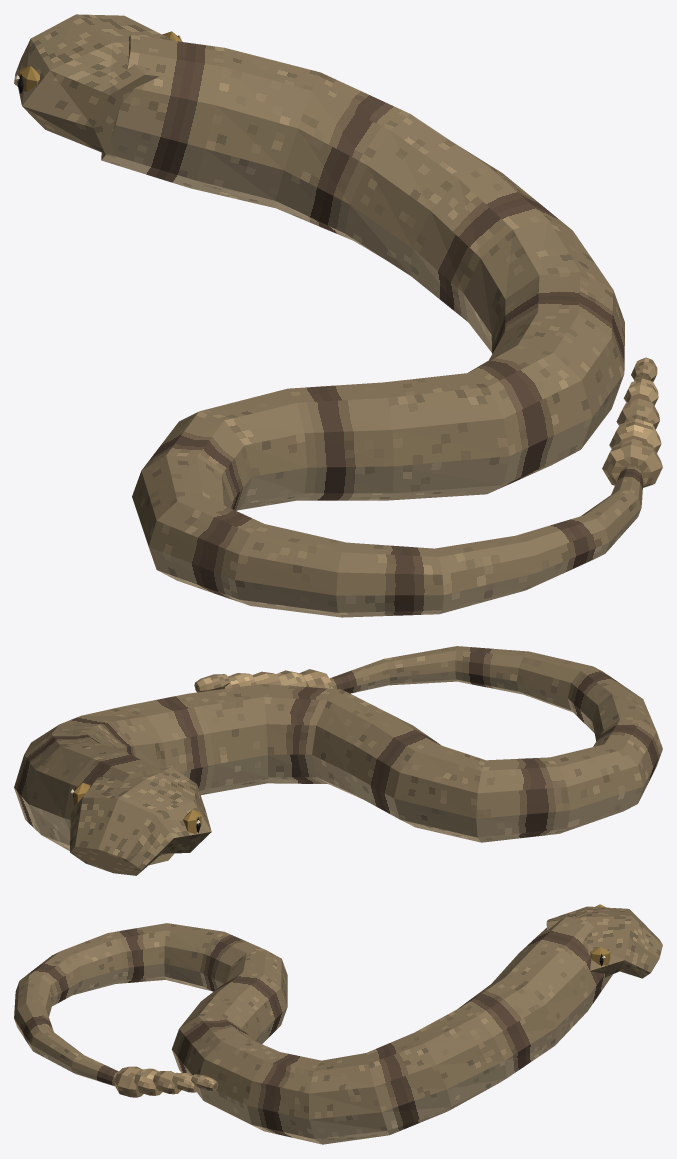
The model's file is mon_rattlesnake_big.glb.
3 renders of one model, top to bottom at view 1: azimuth 30°, elevation 25°; view 2: azimuth 150°, elevation 25°; view 3: azimuth 270°, elevation 25°, orthographic. The views are drawn at different scales.
Parts seen in each view (by area): view 1: closed_body; view 2: closed_body; view 3: closed_body.
Boxes of the visible parts, x1,y1,x2,y2 form: closed_body: (14, 14, 662, 617); closed_body: (14, 646, 662, 875); closed_body: (14, 904, 662, 1144).
Size of the model in its own units: 1.12 by 0.4417 by 1.69.
1 material, 1 textured.
